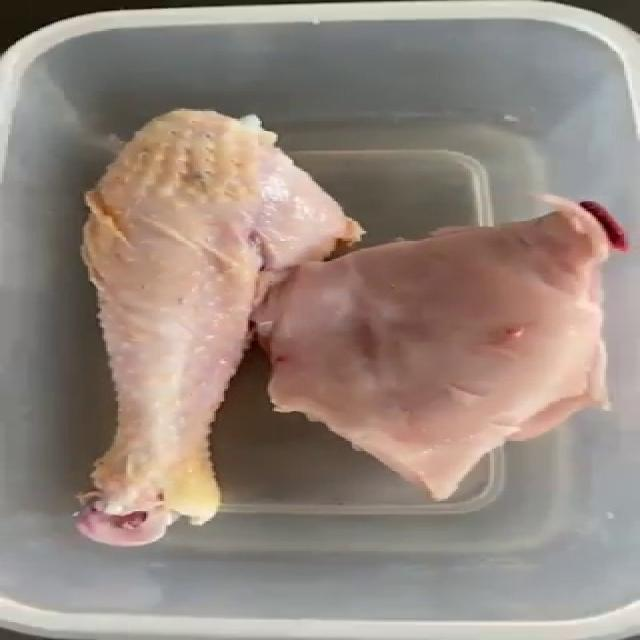chicken: (71, 106, 365, 547), (249, 192, 627, 502)
